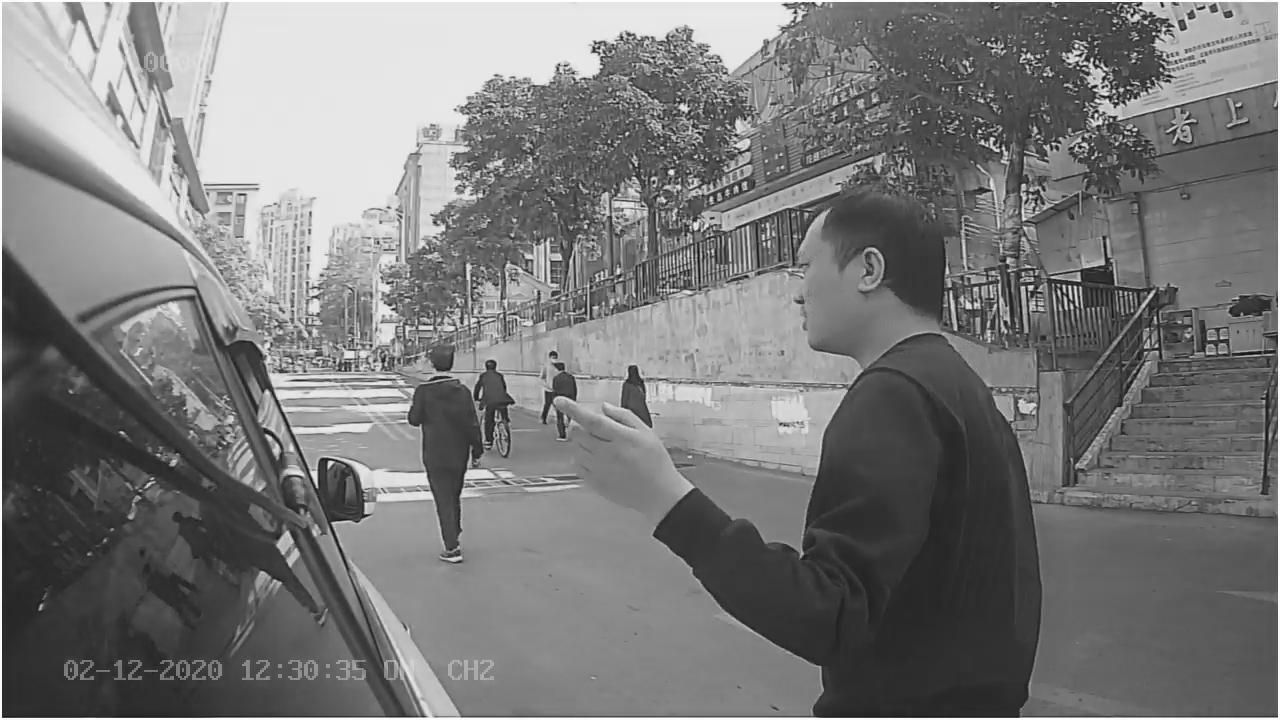person: (778, 183, 1031, 515)
